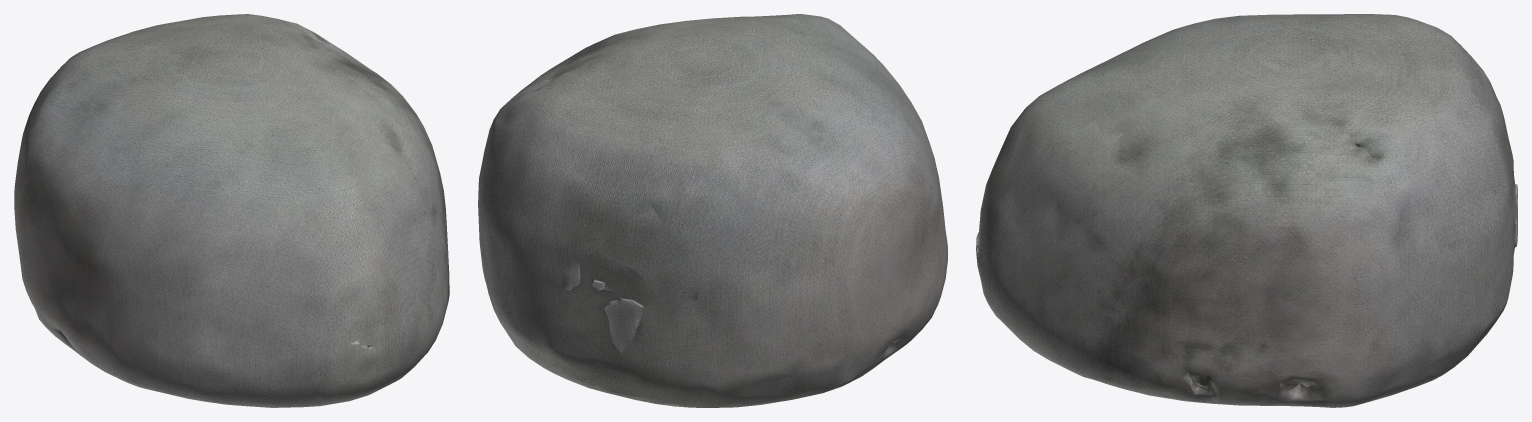
The model's file is rock-r1.glb.
3 views of the same model, side by side, from view 1: azimuth 30°, elevation 25°; view 2: azimuth 150°, elevation 25°; view 3: azimuth 270°, elevation 25° (orthographic). The views are drawn at different scales.
Parts seen in each view (by area): view 1: Mesh; view 2: Mesh; view 3: Mesh.
Part boxes in pixels (bbox=[...]): Mesh: bbox=[14, 14, 449, 407]; Mesh: bbox=[478, 14, 947, 407]; Mesh: bbox=[976, 14, 1517, 407].
Bounding box in the file's own units: 1.66 × 1.12 × 1.97.
Materials: 1 (1 with a texture image).
